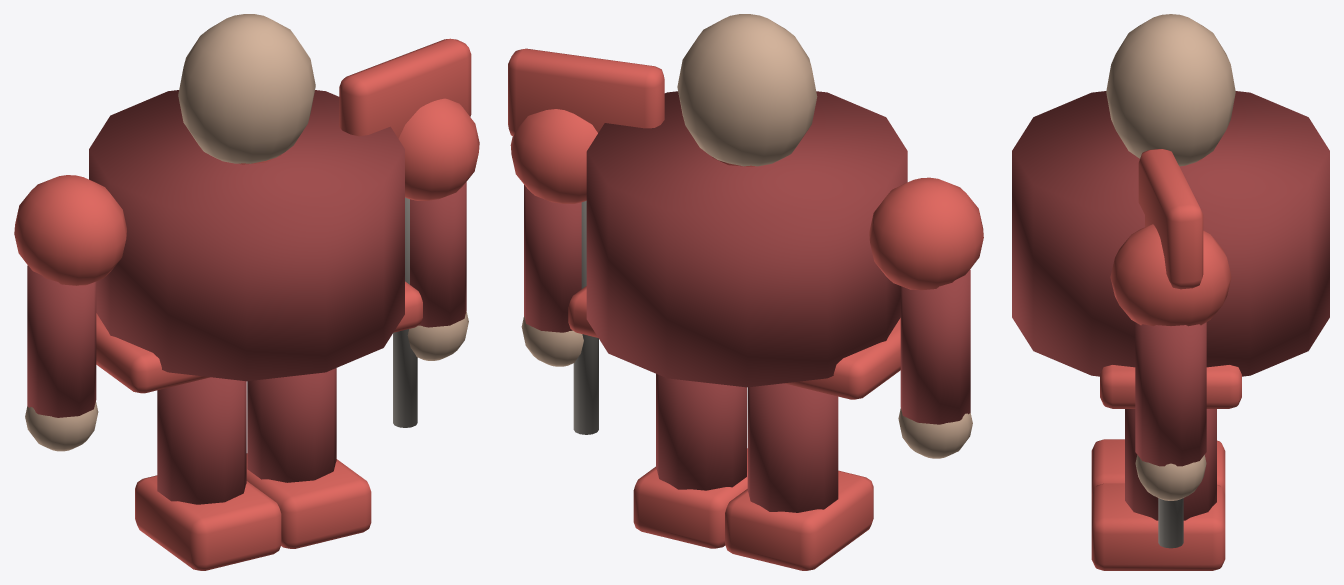
Rendered from Character_5_Placeholder.glb.
3 views of the same model, side by side, from view 1: azimuth 30°, elevation 25°; view 2: azimuth 150°, elevation 25°; view 3: azimuth 270°, elevation 25° (orthographic).
Parts seen in each view (by area): view 1: Character_5_Placeholder_Export; view 2: Character_5_Placeholder_Export; view 3: Character_5_Placeholder_Export.
Boxes of the visible parts, bbox=[...] form: Character_5_Placeholder_Export: bbox=[14, 14, 479, 570]; Character_5_Placeholder_Export: bbox=[508, 14, 983, 570]; Character_5_Placeholder_Export: bbox=[1012, 14, 1329, 570].
Size of the model in its own units: 150 by 162 by 91.2.
